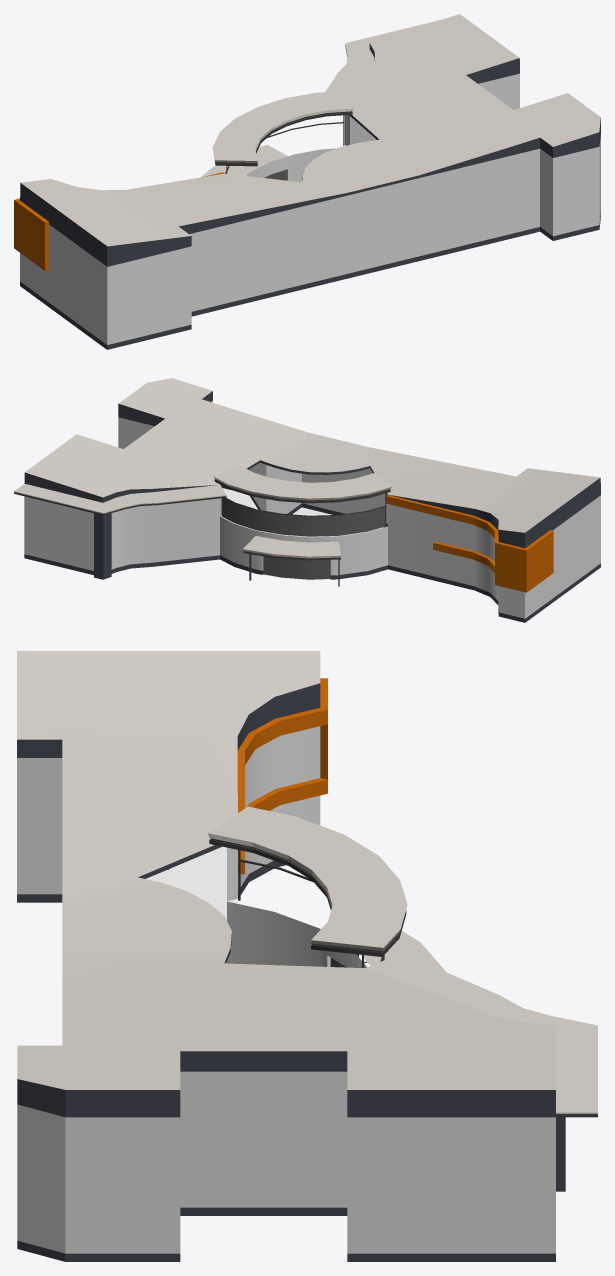
The picture shows the model from 3 angles, top to bottom: view 1: azimuth 30°, elevation 25°; view 2: azimuth 150°, elevation 25°; view 3: azimuth 270°, elevation 25°; orthographic projection. The views are drawn at different scales.
Parts seen in each view (by area): view 1: Local; view 2: Local; view 3: Local.
Part boxes in pixels (x1,y1,x2,y2): Local: (14, 14, 600, 349); Local: (14, 378, 600, 622); Local: (17, 651, 597, 1261).
Size of the model in its own units: 1.12 by 0.2168 by 0.6344.
